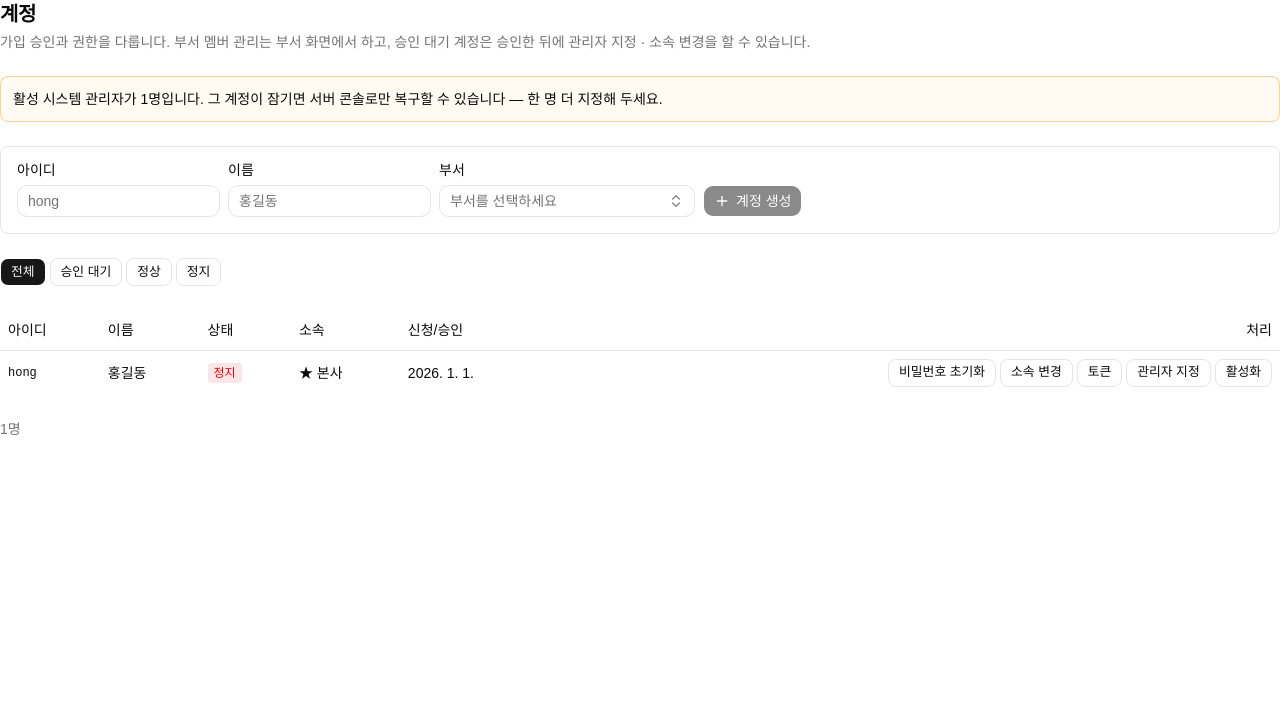
Test case: 계정 관리 · 그 사람의 토큰 › 정지된 계정도 「토큰」 으로 그 사람의 토큰 목록을 연다
Expected: the text "홍길동" is shown, [100, 350, 200, 394]
What coordinates should you click on to do the following:
click the button "토큰"
I would click on:
 (1099, 372)
Its box is [1077, 358, 1122, 386].
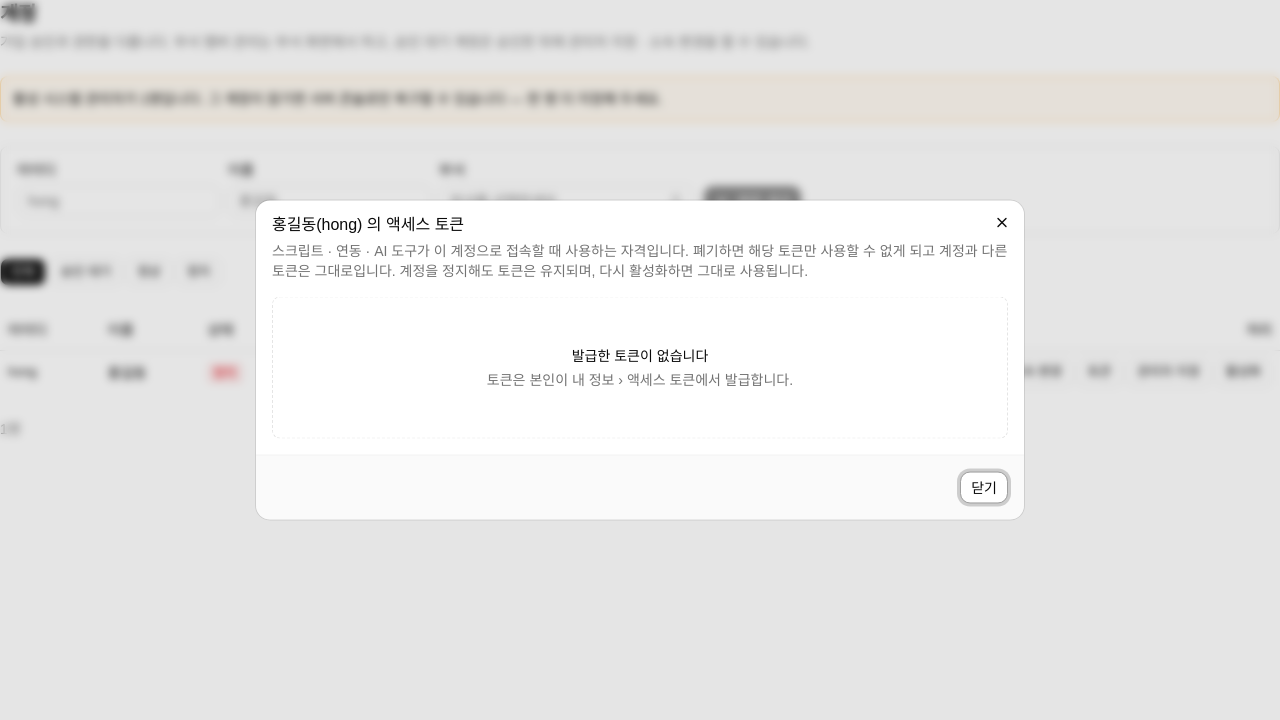
Expected: the dialog "홍길동(hong) 의 액세스 토큰" is shown, [256, 200, 1024, 520]
